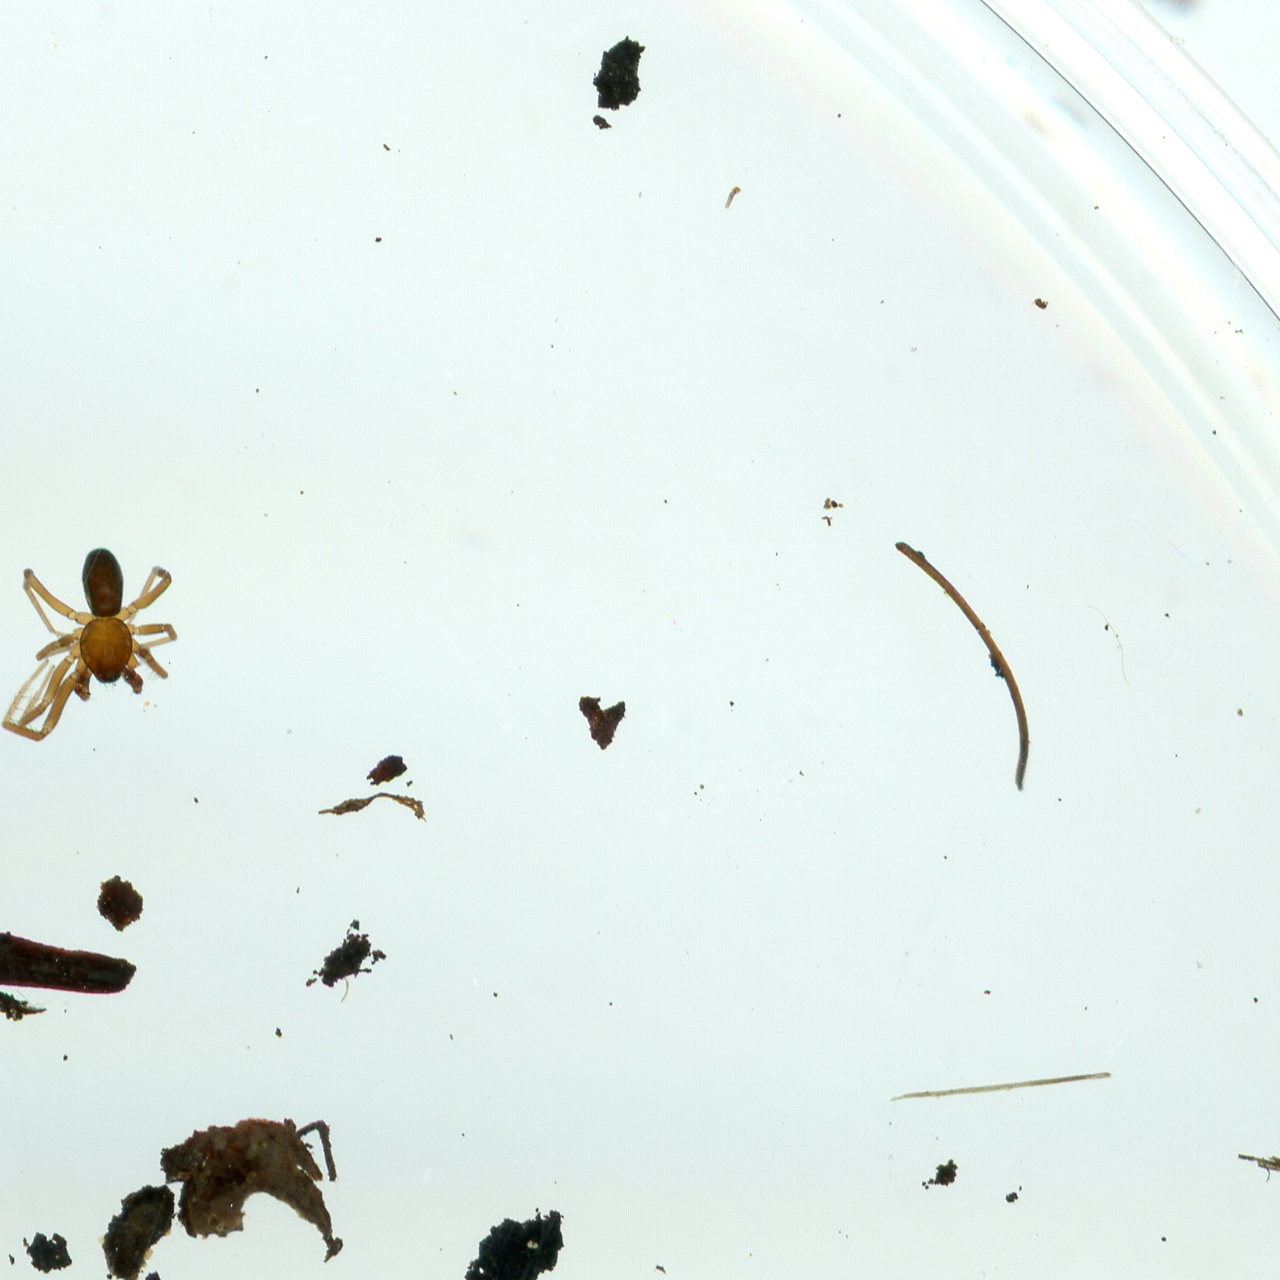arthropod: (0, 548, 180, 743)
